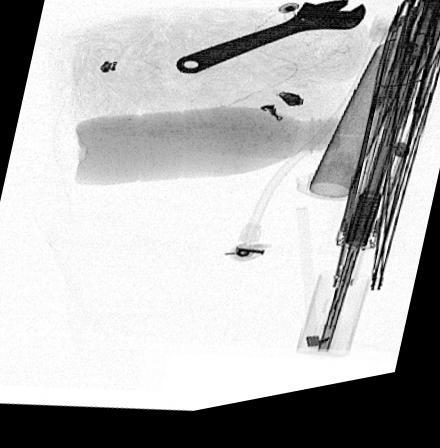Wrench: (172, 10, 368, 83)
